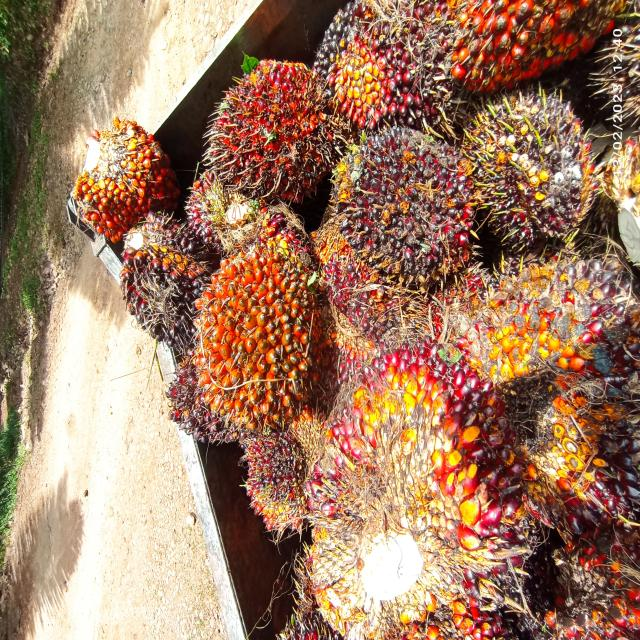fraksi 00: (449, 56, 598, 282), (101, 191, 243, 379)
fraksi 1: (322, 90, 480, 311), (244, 400, 323, 540)
fraksi 3: (273, 324, 541, 638), (314, 0, 472, 124)
fraksi 4: (175, 208, 350, 463), (56, 74, 193, 284), (195, 43, 352, 216)
